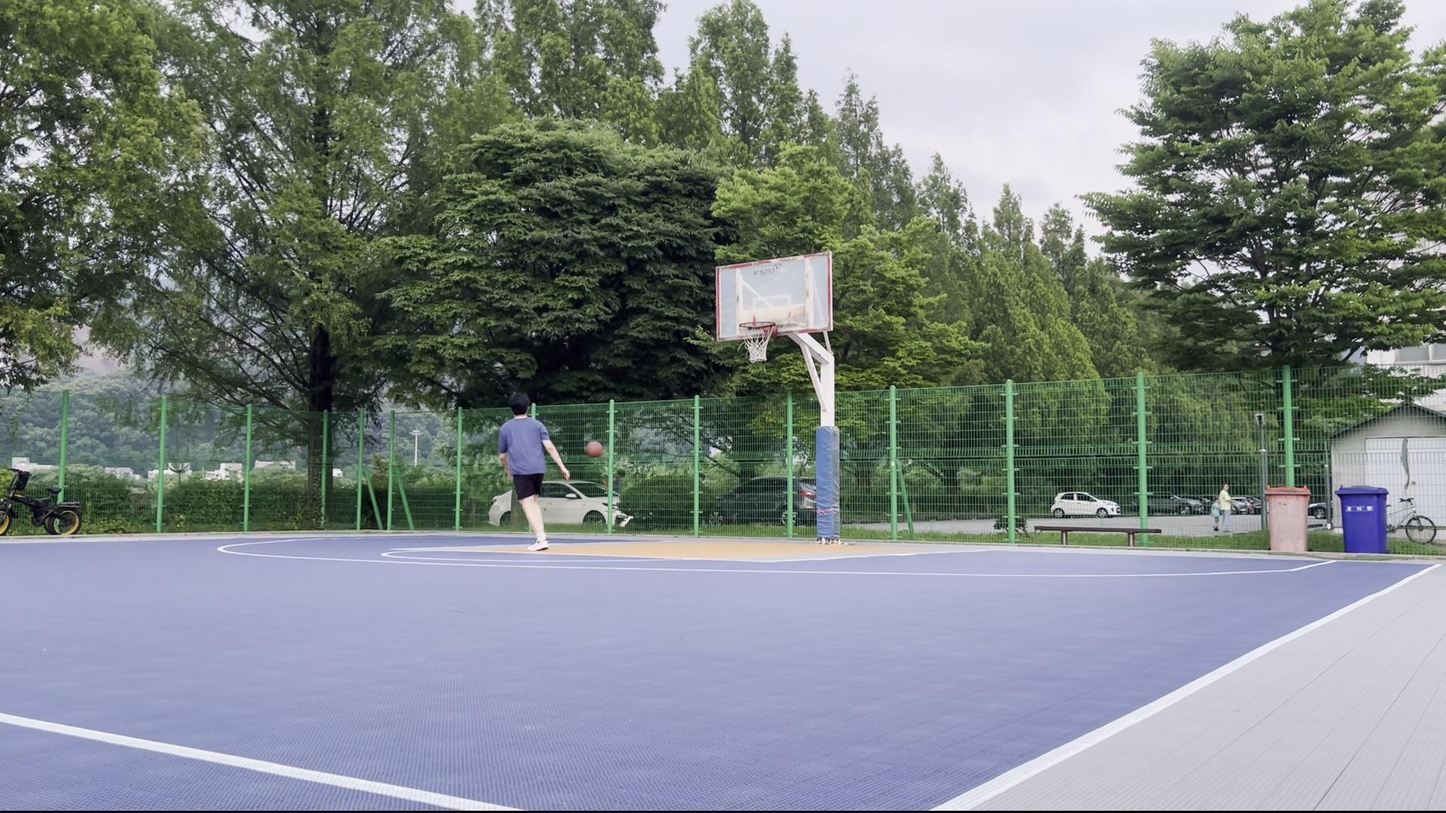ball: (585, 440, 603, 459)
human: (497, 392, 572, 553)
rim: (739, 321, 776, 364)
